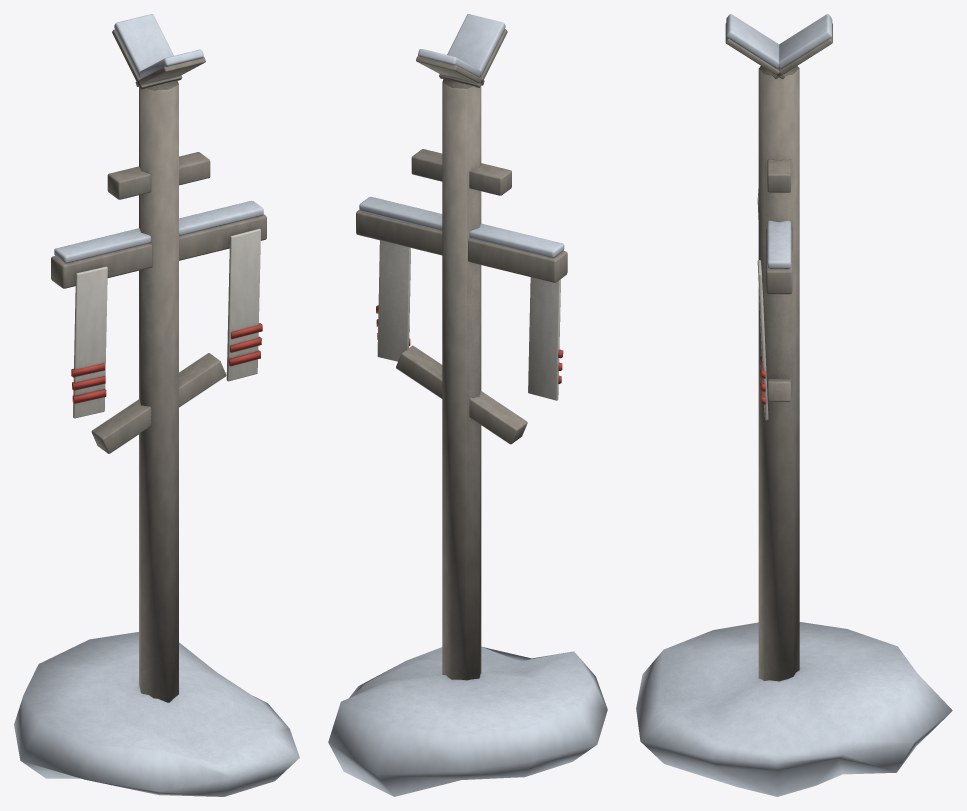
The model's file is trail_cross.glb.
3 views of the same model, side by side, from view 1: azimuth 30°, elevation 25°; view 2: azimuth 150°, elevation 25°; view 3: azimuth 270°, elevation 25° (orthographic). The views are drawn at different scales.
Visible parts, largest first — view 1: trail_cross; view 2: trail_cross; view 3: trail_cross.
Boxes of the visible parts, x1,y1,x2,y2 form: trail_cross: [14, 14, 299, 796]; trail_cross: [328, 14, 607, 796]; trail_cross: [636, 14, 952, 796].
Size of the model in its own units: 0.9617 by 2.78 by 1.08.
1 material, 1 textured.
